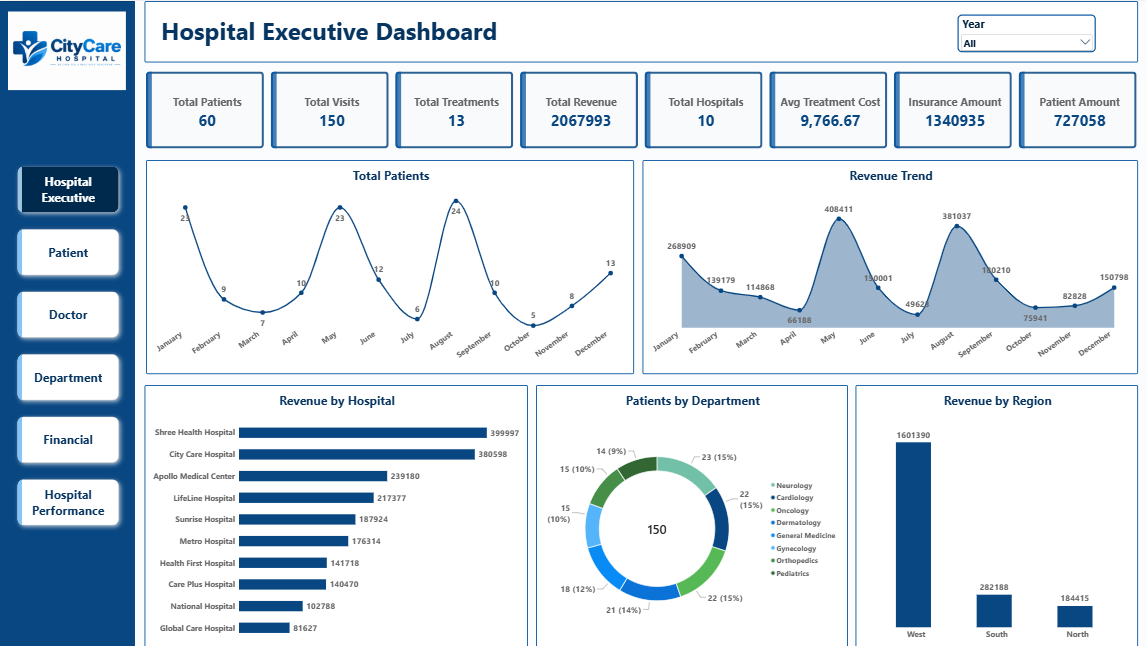

This screenshot's page, from the dashboard's own definition file:
{"tool":"powerbi","page":{"name":"Hospital Executive ","canvas":[2560,1440],"ordinal":0},"visuals":[{"type":"shape","box":[324.5,0,2207.8,136.8],"z":0},{"type":"shape","box":[0,0,302.2,1441.1],"z":1000},{"type":"cardVisual","fields":{"Data":["Patients.Total Patients","Medical Transactions.Total Visits / Transactions","Medical Transactions.Total Treatments","Medical Transactions.Total Revenue","Hospitals.Total Hospital","Treatments.Average Treatment Cost","Sum(Medical Transactions.InsuranceAmount)","Sum(Medical Transactions.PatientAmount)"]},"box":[327.1,155.4,2205.4,171.6],"z":2000},{"type":"lineChart","title":"Total Patients","fields":{"Category":["Medical Transactions.AdmissionDate.Variation.Date Hierarchy.Year","Medical Transactions.AdmissionDate.Variation.Date Hierarchy.Quarter","Medical Transactions.AdmissionDate.Variation.Date Hierarchy.Month","Medical Transactions.AdmissionDate.Variation.Date Hierarchy.Day"],"Y":["CountNonNull(Medical Transactions.PatientID)"]},"box":[327.1,353,1084.9,476.1],"z":3000},{"type":"donutChart","title":"Patients by Department","fields":{"Category":["Departments.DepartmentName"],"Y":["CountNonNull(Medical Transactions.PatientID)"]},"box":[1191.8,851.7,693,589.4],"z":4000},{"type":"areaChart","title":"Revenue Trend","fields":{"Category":["Medical Transactions.AdmissionDate.Variation.Date Hierarchy.Year","Medical Transactions.AdmissionDate.Variation.Date Hierarchy.Quarter","Medical Transactions.AdmissionDate.Variation.Date Hierarchy.Month","Medical Transactions.AdmissionDate.Variation.Date Hierarchy.Day"],"Y":["Medical Transactions.Total Revenue"]},"box":[1431.4,353,1101.1,476.1],"z":5000},{"type":"clusteredBarChart","title":"Revenue by Hospital","fields":{"Category":["Hospitals.HospitalName"],"Y":["Medical Transactions.Total Revenue"]},"box":[323.8,851.7,851.7,589.4],"z":6000},{"type":"clusteredColumnChart","title":"Revenue by Region","fields":{"Category":["Hospitals.Region"],"Y":["Medical Transactions.Total Revenue"]},"box":[1904.2,851.7,628.3,589.4],"z":7000},{"type":"textbox","box":[359.5,29.1,816.1,84.2],"z":8000},{"type":"slicer","fields":{"Values":["Medical Transactions.AdmissionDate.Variation.Date Hierarchy.Year"]},"box":[2129,30.3,307.7,84.2],"z":9000},{"type":"pageNavigator","box":[25.4,353.1,254.5,830.3],"z":10000},{"type":"image","box":[0,22.3,302.2,175],"z":11000}]}

Visuals, with their boxes in screenshot pixels (x1, y1, x2, y2), scaled from the page's 2560x1440 canvas onto the 1146x646 screenshot:
shape: [left=145, top=0, right=1134, bottom=61]
shape: [left=0, top=0, right=135, bottom=645]
cardVisual - Patients.Total Patients x Medical Transactions.Total Visits / Transactions: [left=146, top=70, right=1134, bottom=147]
"Total Patients" lineChart: [left=146, top=158, right=632, bottom=372]
"Patients by Department" donutChart: [left=534, top=382, right=844, bottom=645]
"Revenue Trend" areaChart: [left=641, top=158, right=1134, bottom=372]
"Revenue by Hospital" clusteredBarChart: [left=145, top=382, right=526, bottom=645]
"Revenue by Region" clusteredColumnChart: [left=852, top=382, right=1134, bottom=645]
textbox: [left=161, top=13, right=526, bottom=51]
slicer - Medical Transactions.AdmissionDate.Variation.Date Hierarchy.Year: [left=953, top=14, right=1091, bottom=51]
pageNavigator: [left=11, top=158, right=125, bottom=531]
image: [left=0, top=10, right=135, bottom=89]
